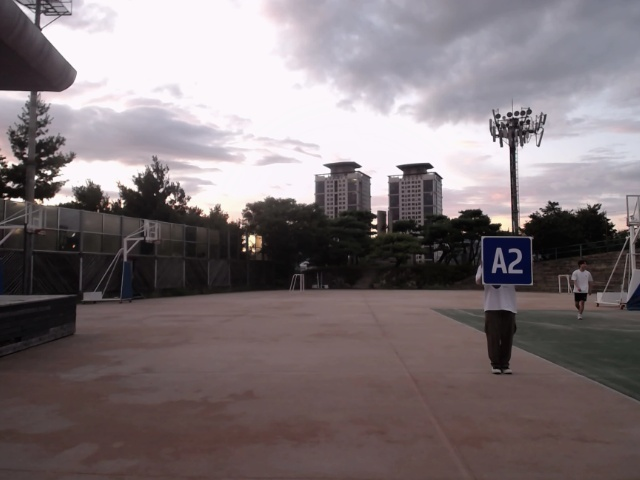delivery_a2: (482, 236, 532, 286)
